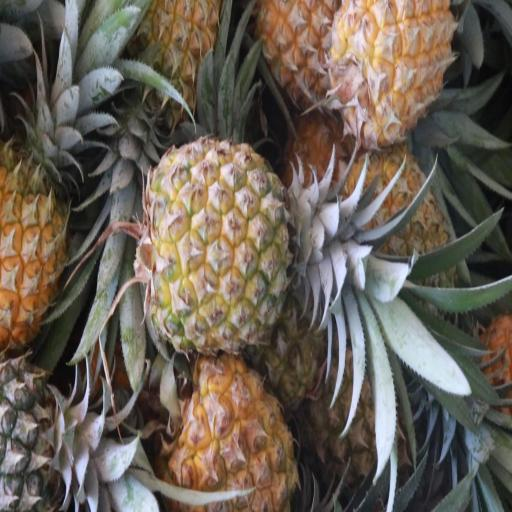------------------------------: (346, 154, 456, 318)
Pineapple - v8 v1: (146, 143, 291, 349), (174, 360, 296, 512), (336, 0, 454, 134), (0, 150, 72, 344)
